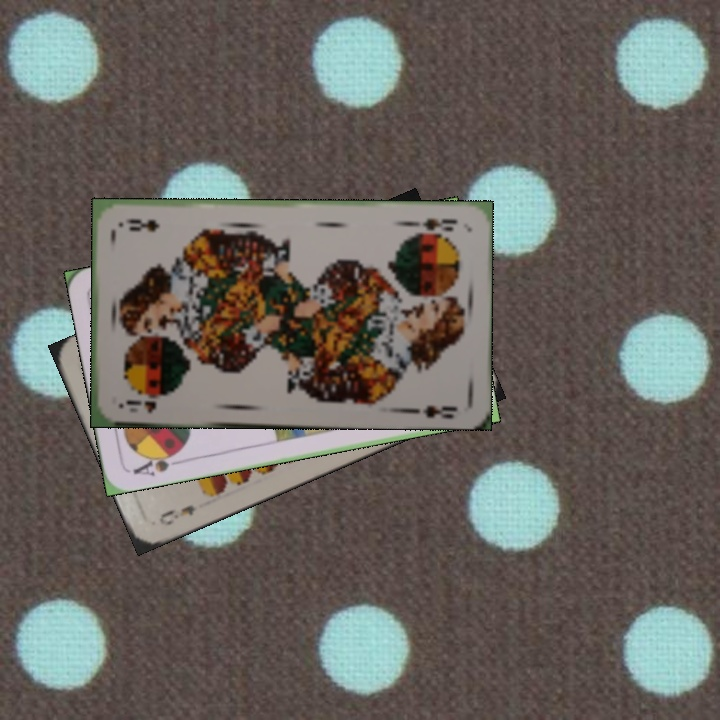E9: (155, 501, 198, 529)
SA: (129, 446, 186, 479)
SO: (122, 392, 174, 415), (407, 214, 460, 234)
